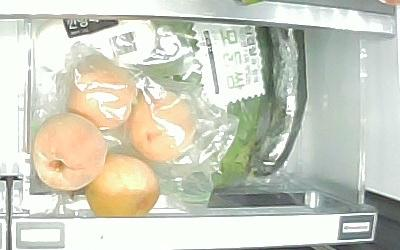peach: (34, 112, 108, 189), (83, 153, 160, 217)
peach_vinyl: (128, 89, 197, 161), (66, 67, 136, 126)
